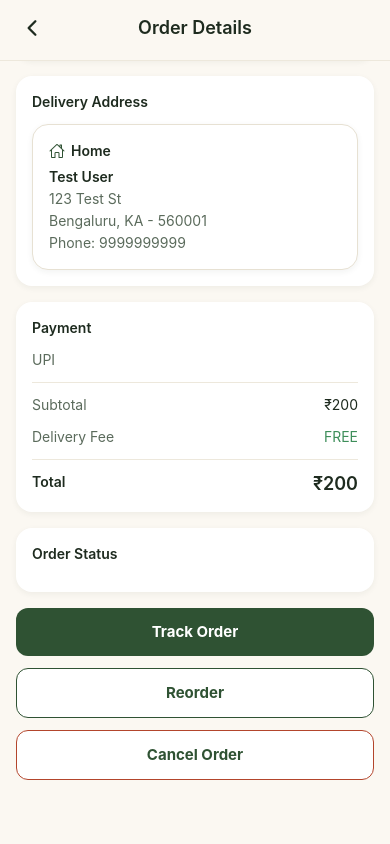
it: OrderDetailsScreen › cancels the order after confirming, and reflects the new status
(page scrolled)
Click the button "Cancel Order". click: (195, 755)
box: [16,730,374,780]
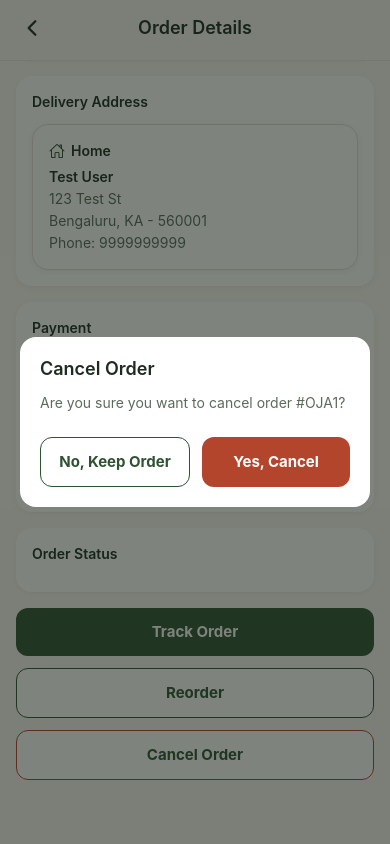
Click the button "Yes, Cancel". click: (276, 462)
box: [202,437,350,487]
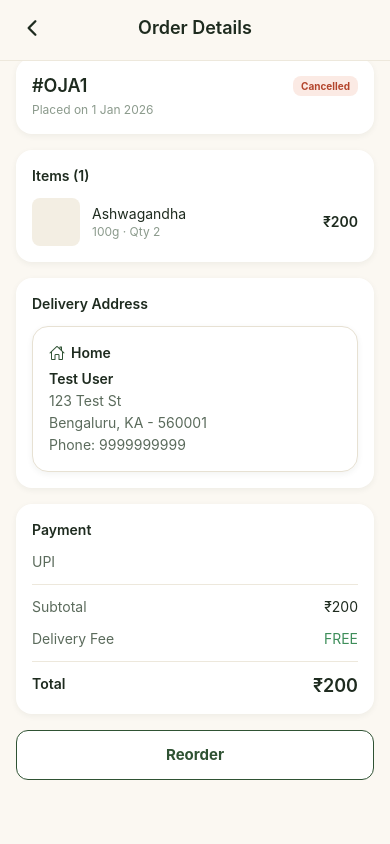
Result: the text "Cancelled" is shown at [301,79,350,93]
